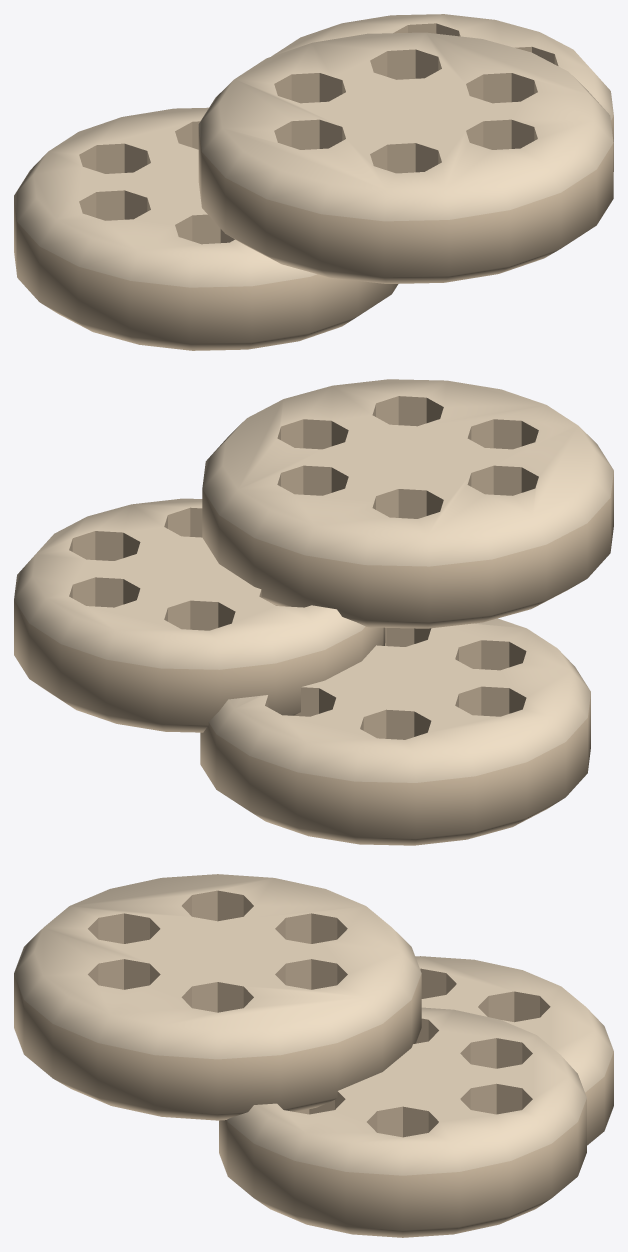
File: lotus-root.glb
3 views of the same model, one above another, from view 1: azimuth 30°, elevation 25°; view 2: azimuth 150°, elevation 25°; view 3: azimuth 270°, elevation 25° (orthographic). The views are drawn at different scales.
Parts seen in each view (by area): view 1: lotus-root; view 2: lotus-root; view 3: lotus-root.
Boxes of the visible parts, bbox=[...] form: lotus-root: bbox=[14, 14, 613, 350]; lotus-root: bbox=[14, 379, 613, 845]; lotus-root: bbox=[14, 874, 613, 1237].
Bounding box in the file's own units: 0.587 × 0.227 × 0.577.
